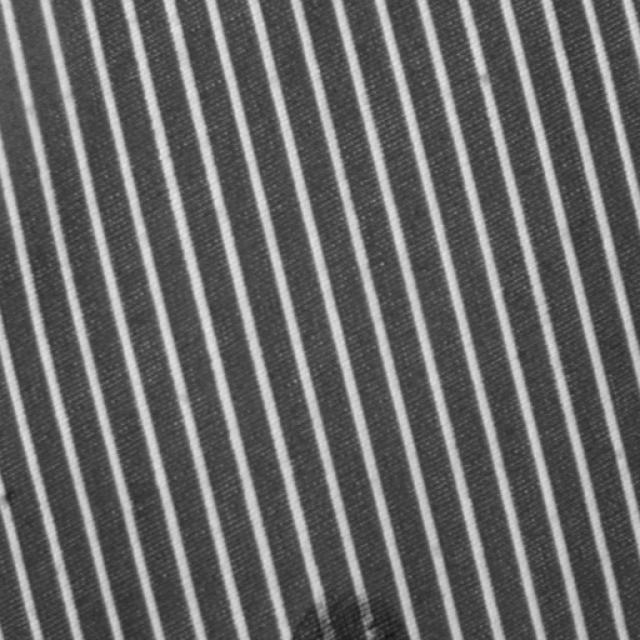Stain-Defect: (291, 596, 410, 639)
